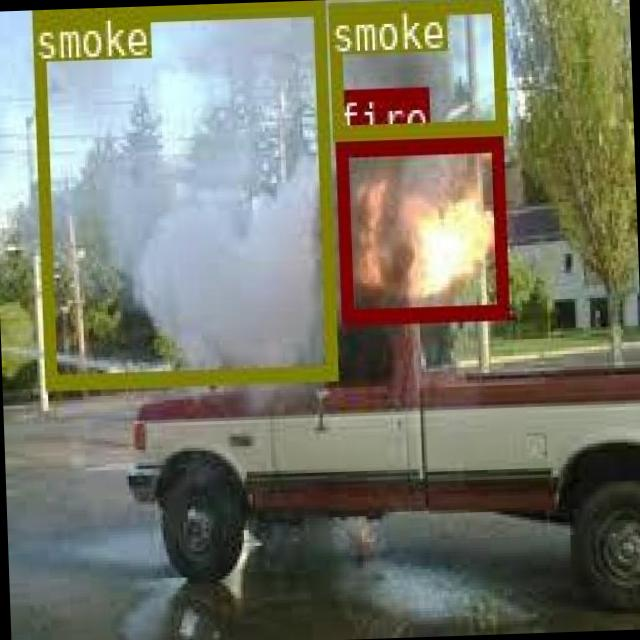fire: (333, 134, 504, 320)
smoke: (29, 0, 336, 384), (325, 0, 503, 136)
